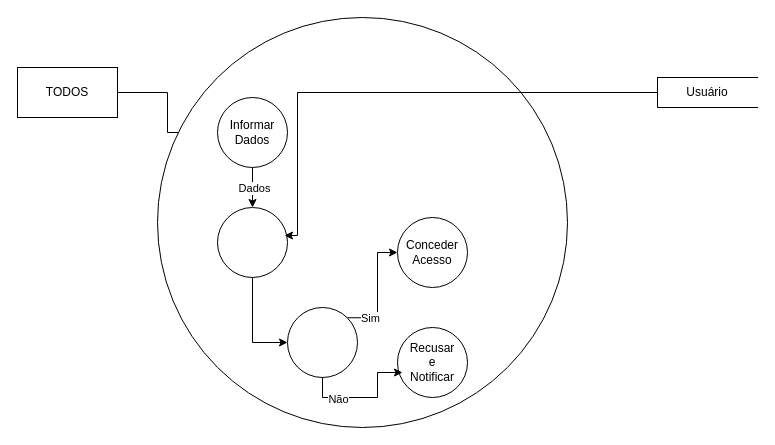
This 775x445 diagram has some shape labels left out. Here are the shapes that lost their labels. From the top down, the box of each, then its label:
(216, 206, 288, 278): Verificar Cadastro da Conta
(286, 306, 358, 378): Verificar Autenticação
